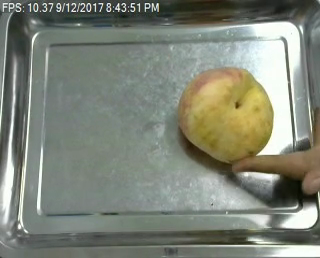Peach: (178, 66, 273, 161)
